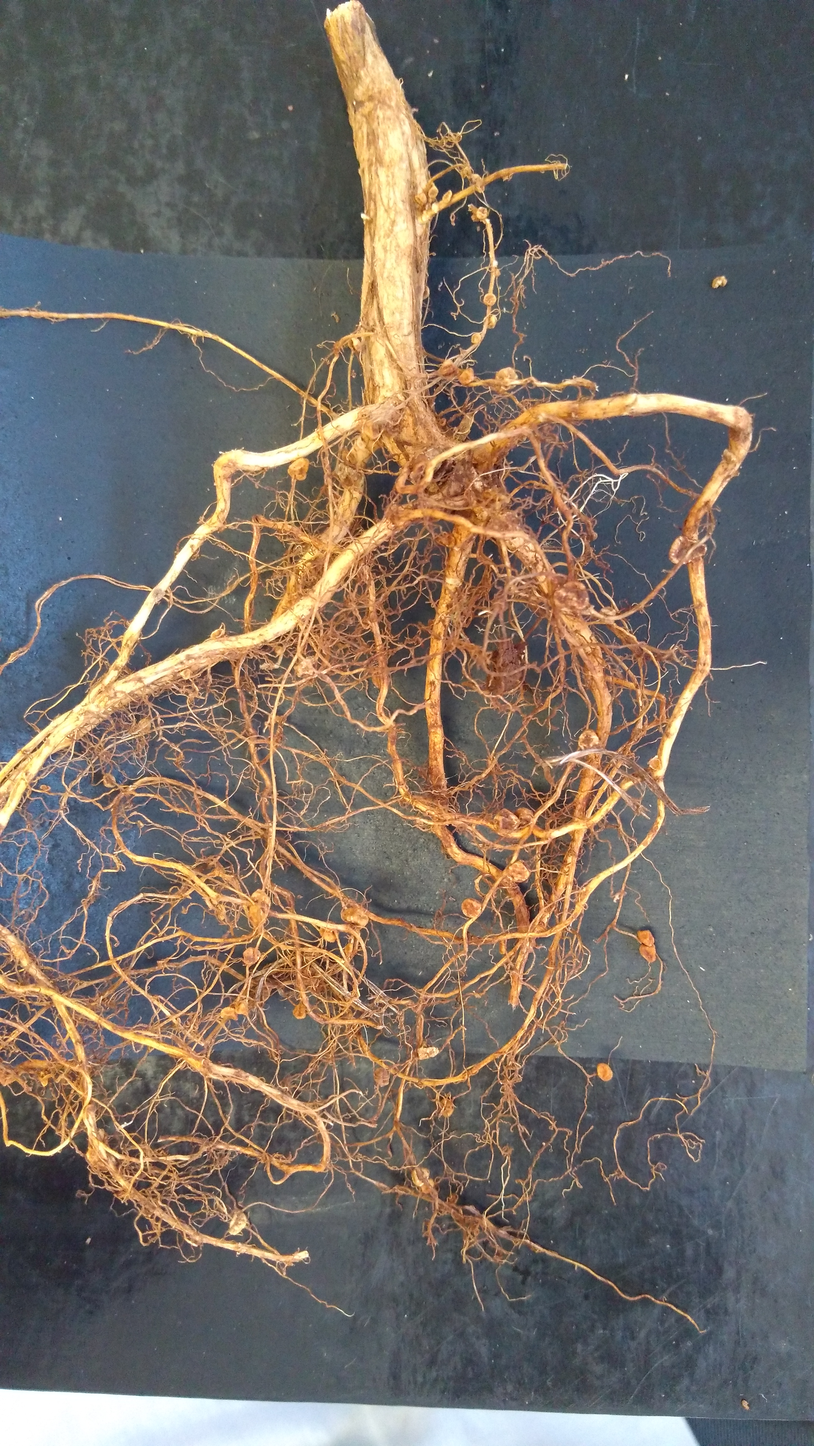nodule: (548, 577, 590, 615), (242, 888, 274, 929), (491, 364, 521, 393), (503, 859, 533, 887), (225, 1207, 251, 1237), (338, 906, 373, 928), (493, 807, 519, 836), (576, 727, 600, 755), (514, 803, 536, 829), (461, 893, 483, 919), (318, 918, 340, 943), (409, 1166, 433, 1188), (287, 456, 309, 480), (468, 172, 489, 196), (455, 365, 477, 387), (240, 944, 262, 966), (635, 943, 658, 964), (373, 1064, 393, 1088), (289, 999, 309, 1021), (635, 928, 658, 947), (595, 1061, 614, 1084), (416, 1045, 440, 1063), (437, 1097, 456, 1119), (435, 357, 455, 376), (480, 291, 501, 309), (218, 1006, 239, 1022), (233, 998, 250, 1017), (417, 1178, 437, 1194), (646, 755, 664, 772), (711, 273, 728, 291), (487, 312, 503, 331), (473, 204, 490, 221), (444, 533, 459, 550), (419, 282, 431, 302), (101, 772, 116, 788), (215, 903, 229, 920), (441, 188, 454, 205), (137, 718, 152, 732), (343, 942, 355, 959), (413, 192, 428, 204), (469, 332, 484, 344), (428, 183, 439, 198), (447, 1192, 460, 1204), (424, 203, 434, 213)
